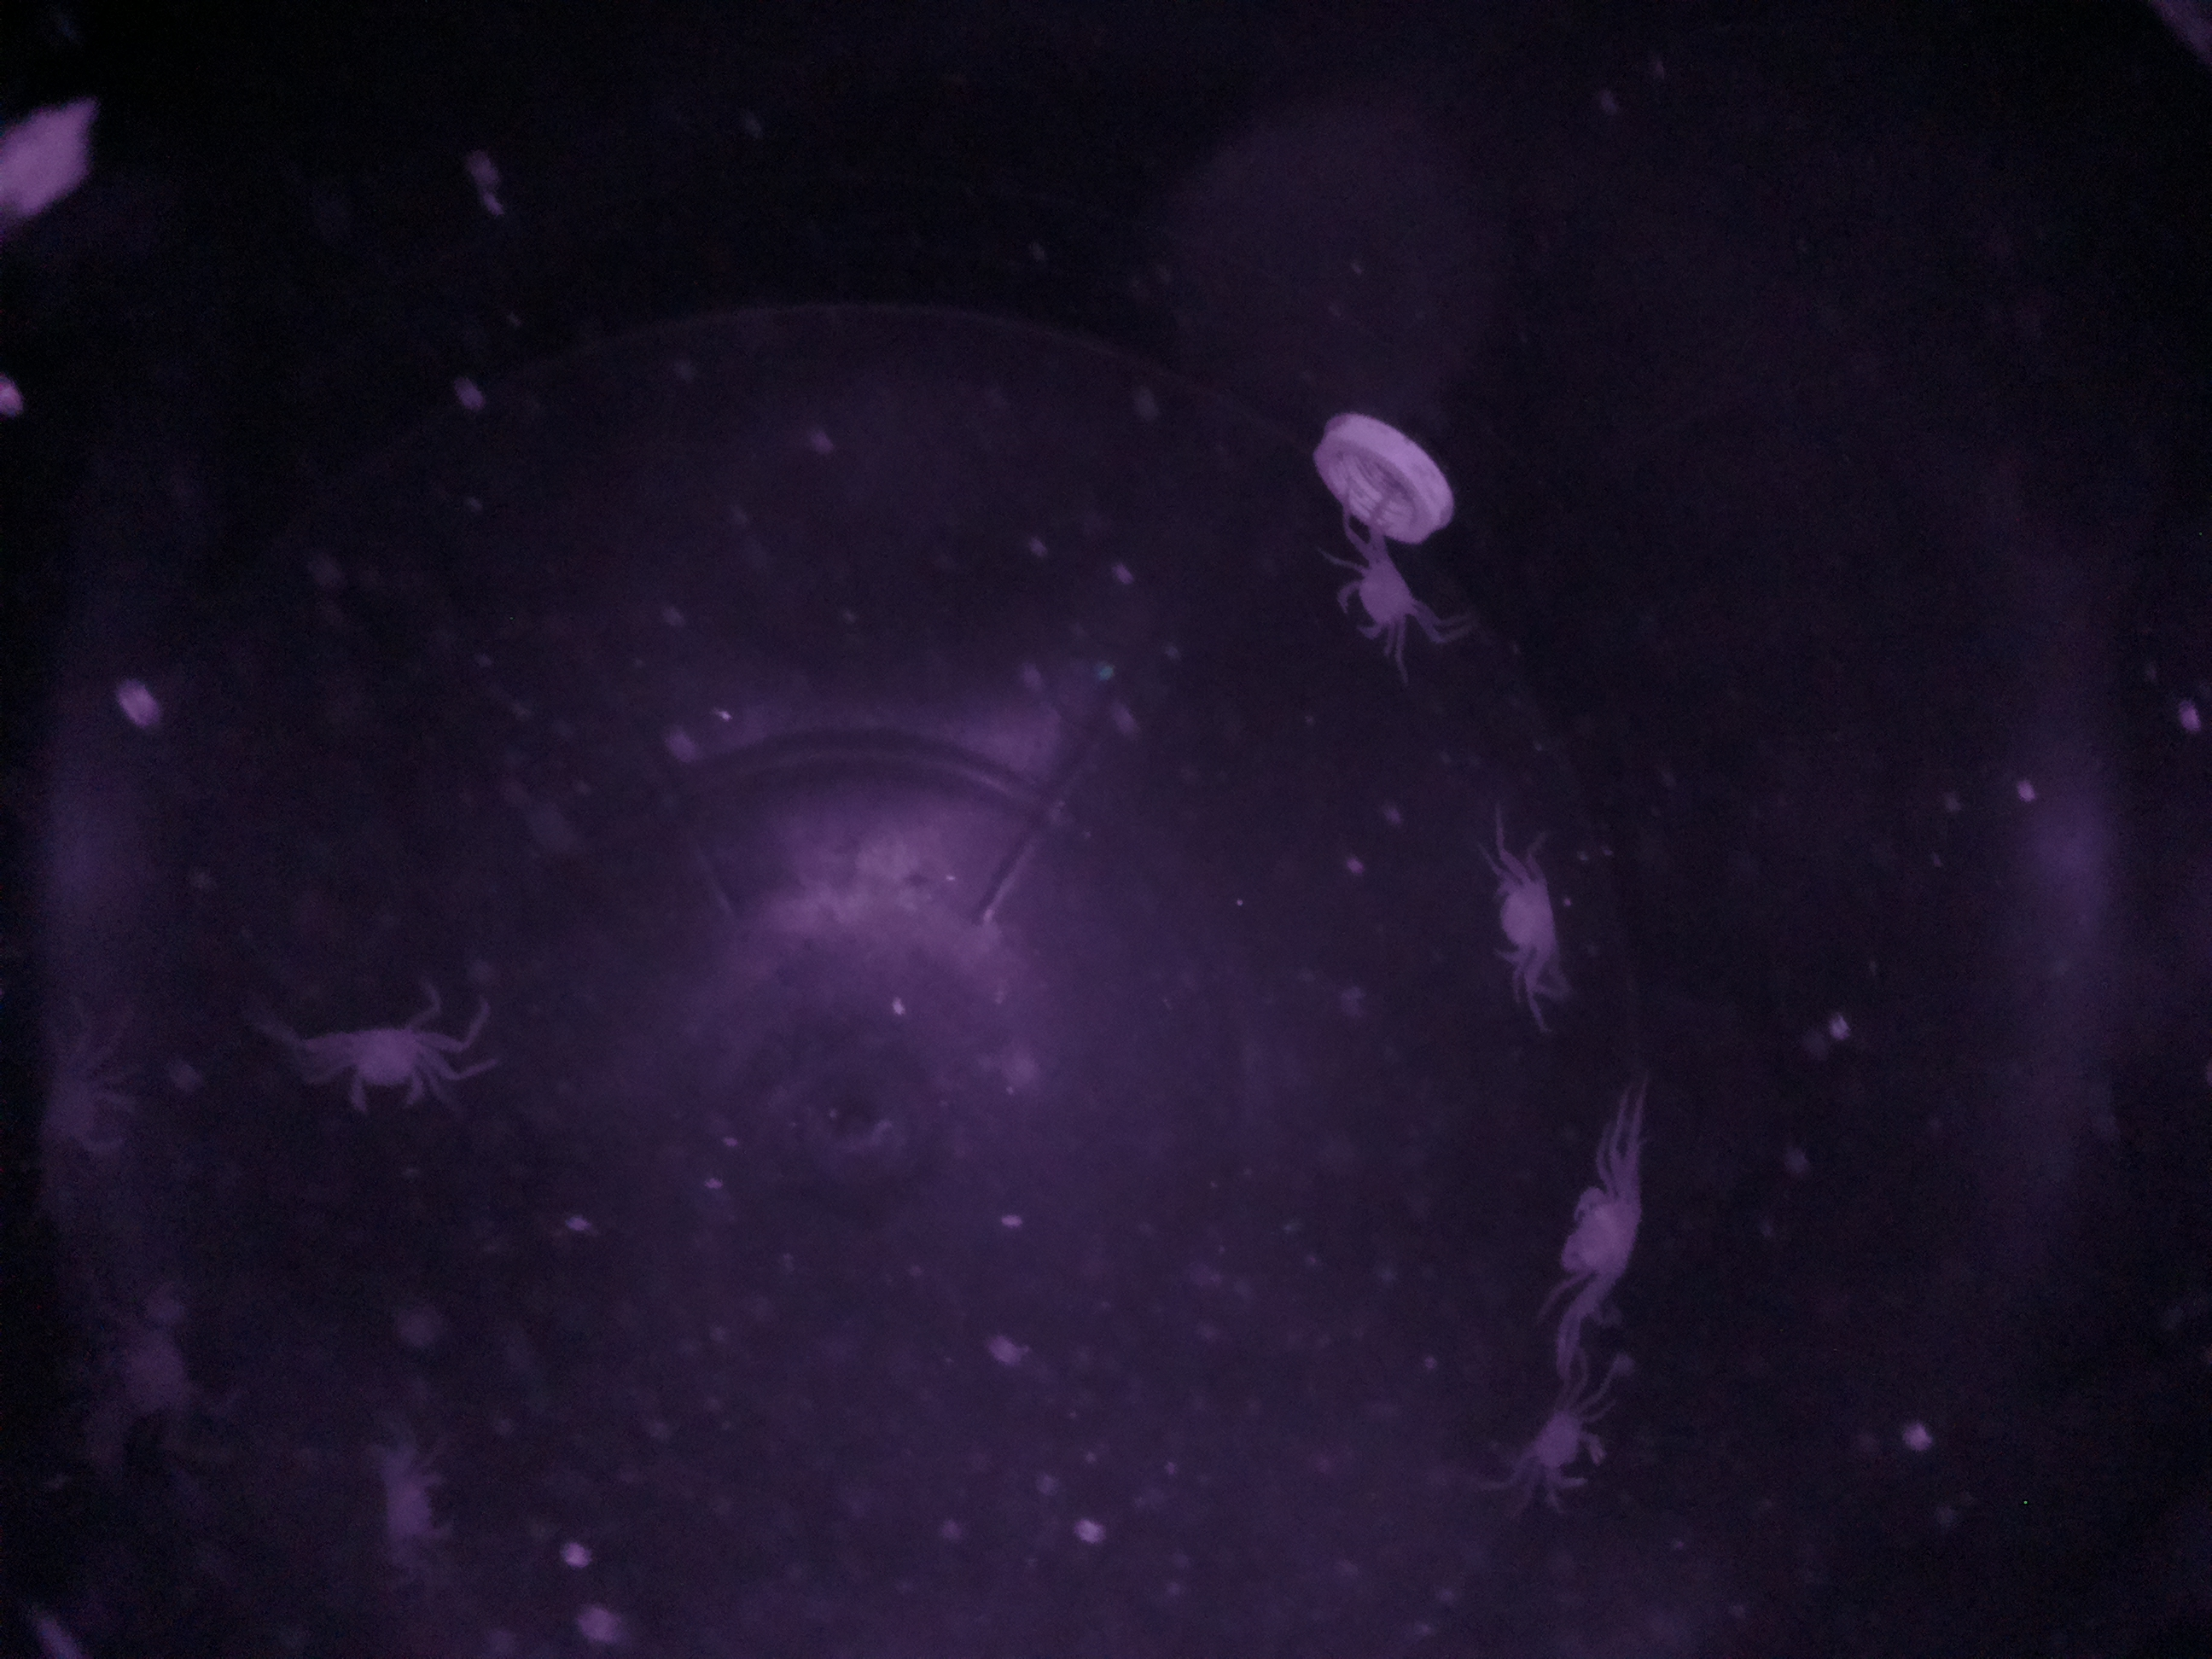Crab: (1545, 1161, 1672, 1316), (320, 1004, 448, 1152), (1465, 838, 1571, 988), (1331, 532, 1433, 662)
